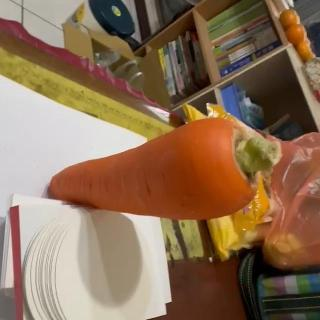carrot: (47, 116, 279, 220)
